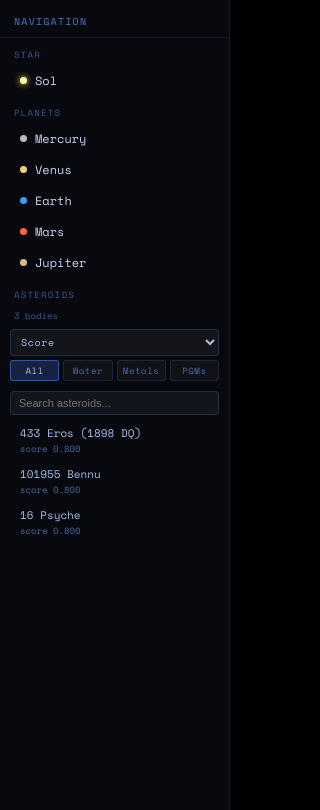
it: NavigationSidebar › resource filter › Metals filter shows S-type and M-type asteroids
This screenshot has width=320, height=810.
Click the button "Metals".
click(141, 370)  # box [116, 360, 166, 381]
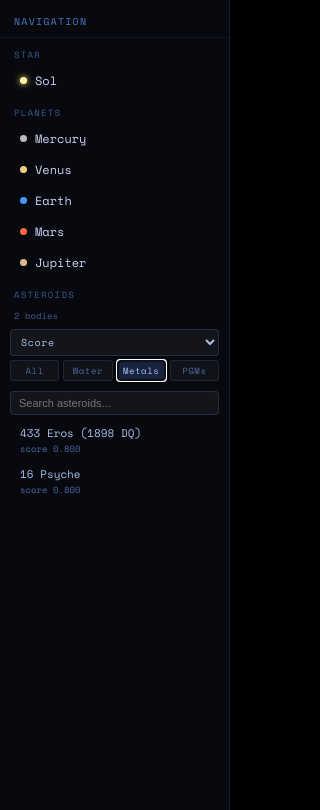
Expected: the text "433 Eros (1898 DQ)" is shown, [20, 425, 141, 441]
Expected: the text "Bennu" is gone
